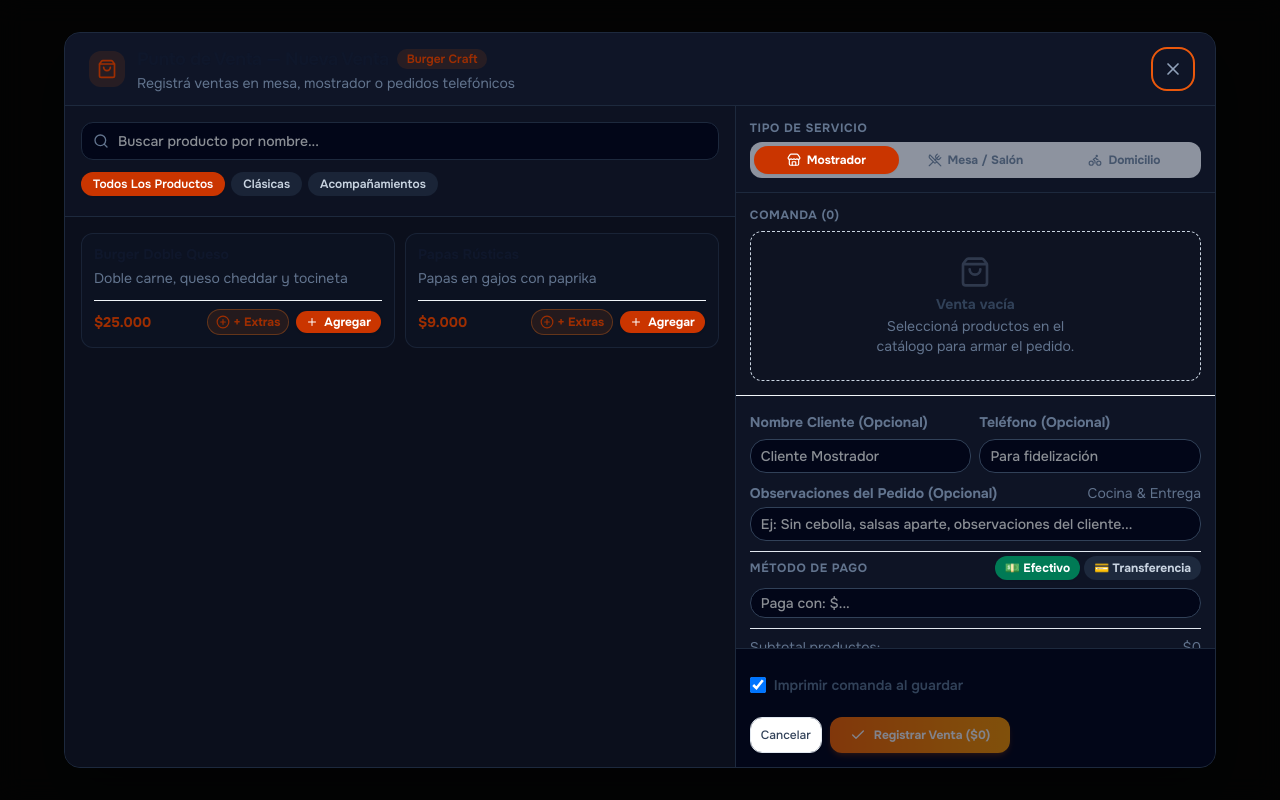
Test case: ManualSaleModal - Point of Sale (POS) Component › allows modifying extras of an item already in the cart
This screenshot has width=1280, height=800.
Quick add a product
Click the button "Agregar" in the row of "$25.000" at [339, 322], box 295,310 -> 382,334
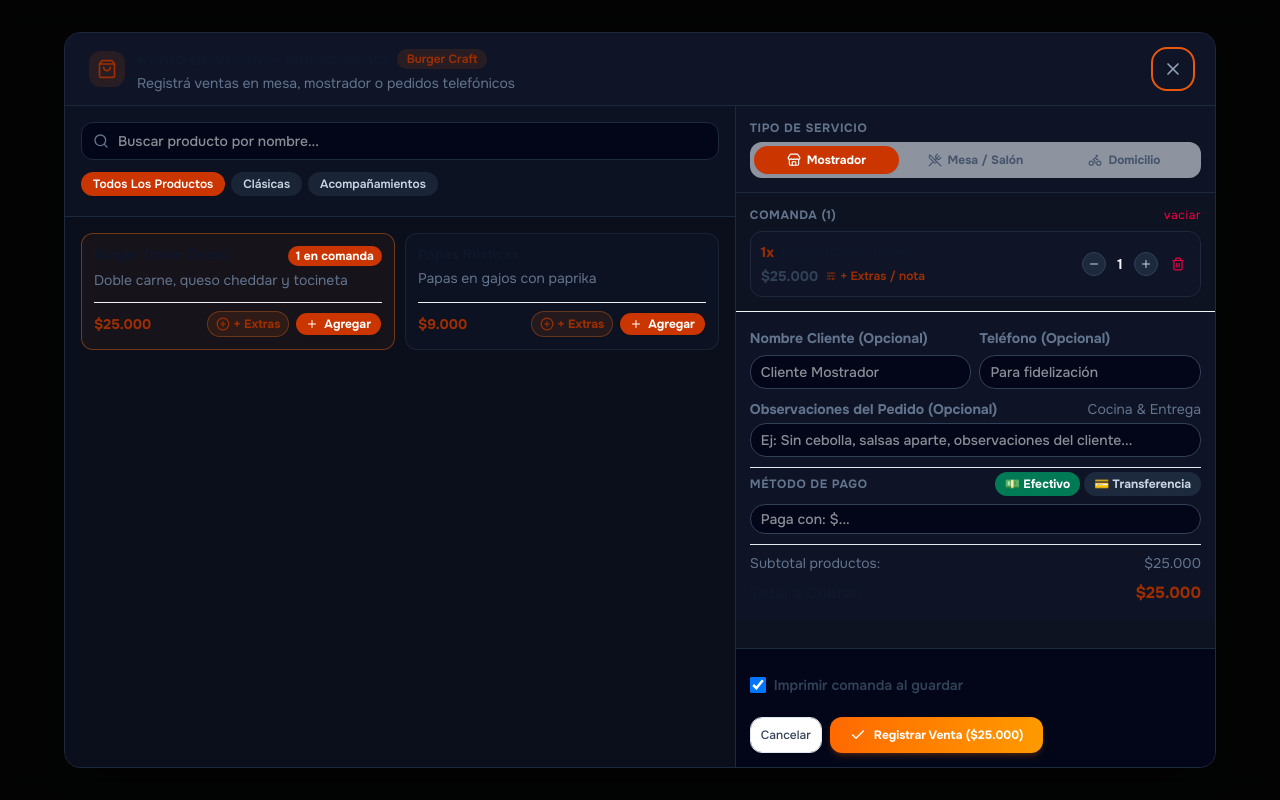
Click on "Extras / nota" on the cart item
Click the button "+ Extras / nota" at [876, 276], box 826,268 -> 925,284
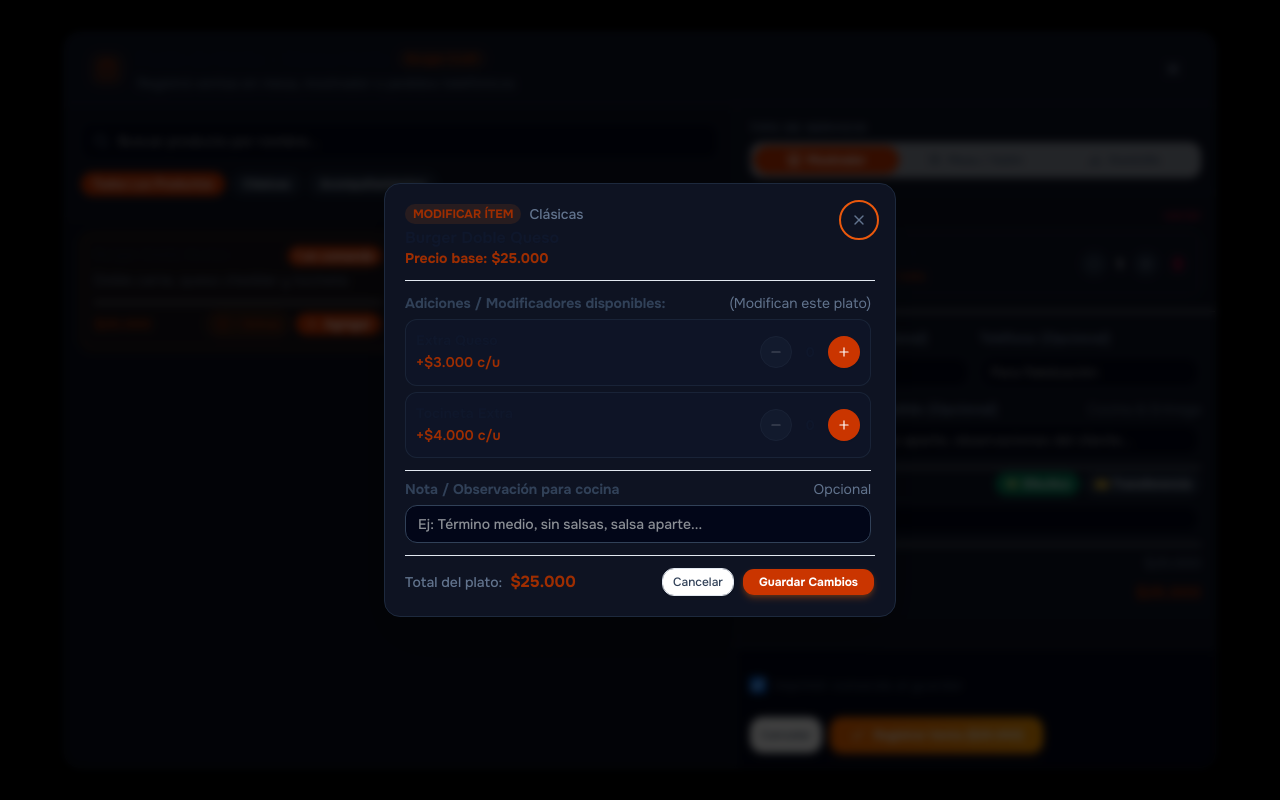
Now the text "Modificar ítem" is shown, box 405,204 -> 521,224
Add Tocineta Extra
Click the button named "Agregar Tocineta Extra" at [844, 425], box 828,409 -> 860,441
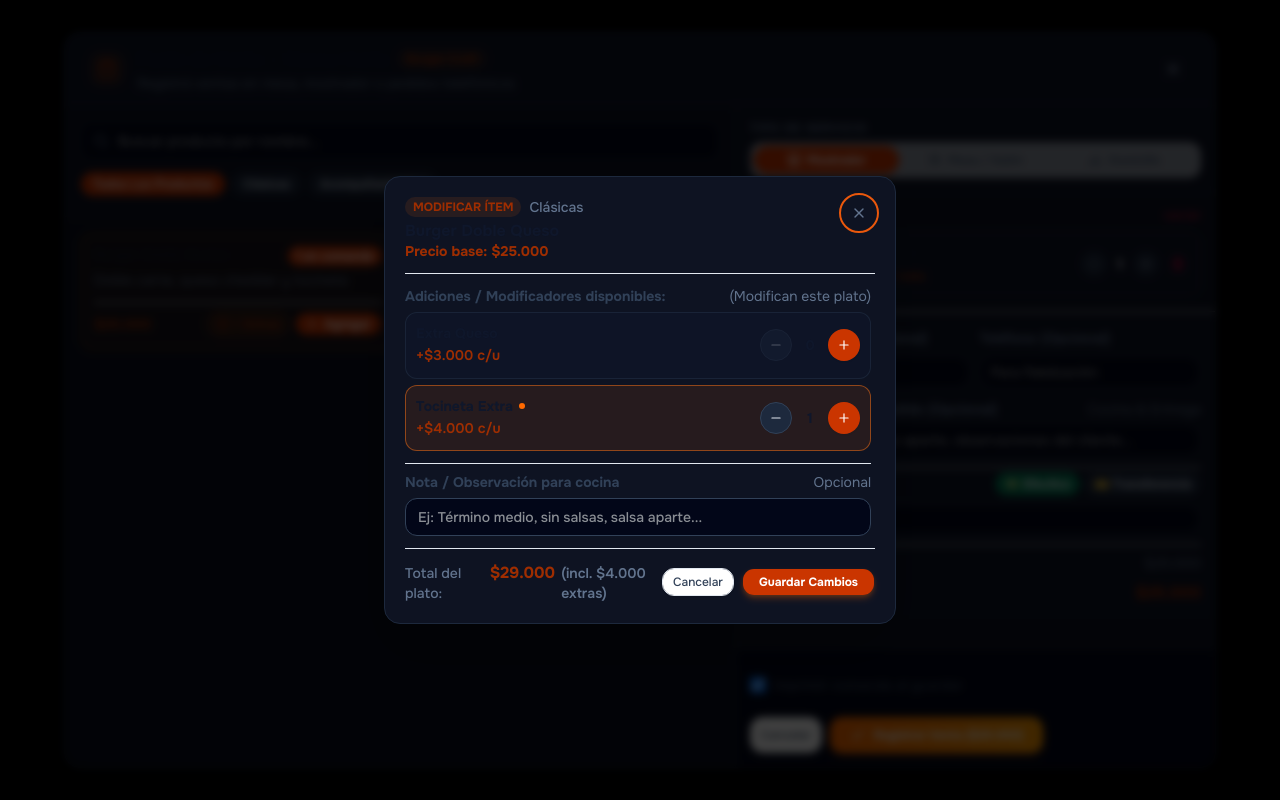
Save changes
Click the button "Guardar Cambios" at [808, 582], box 742,568 -> 875,596
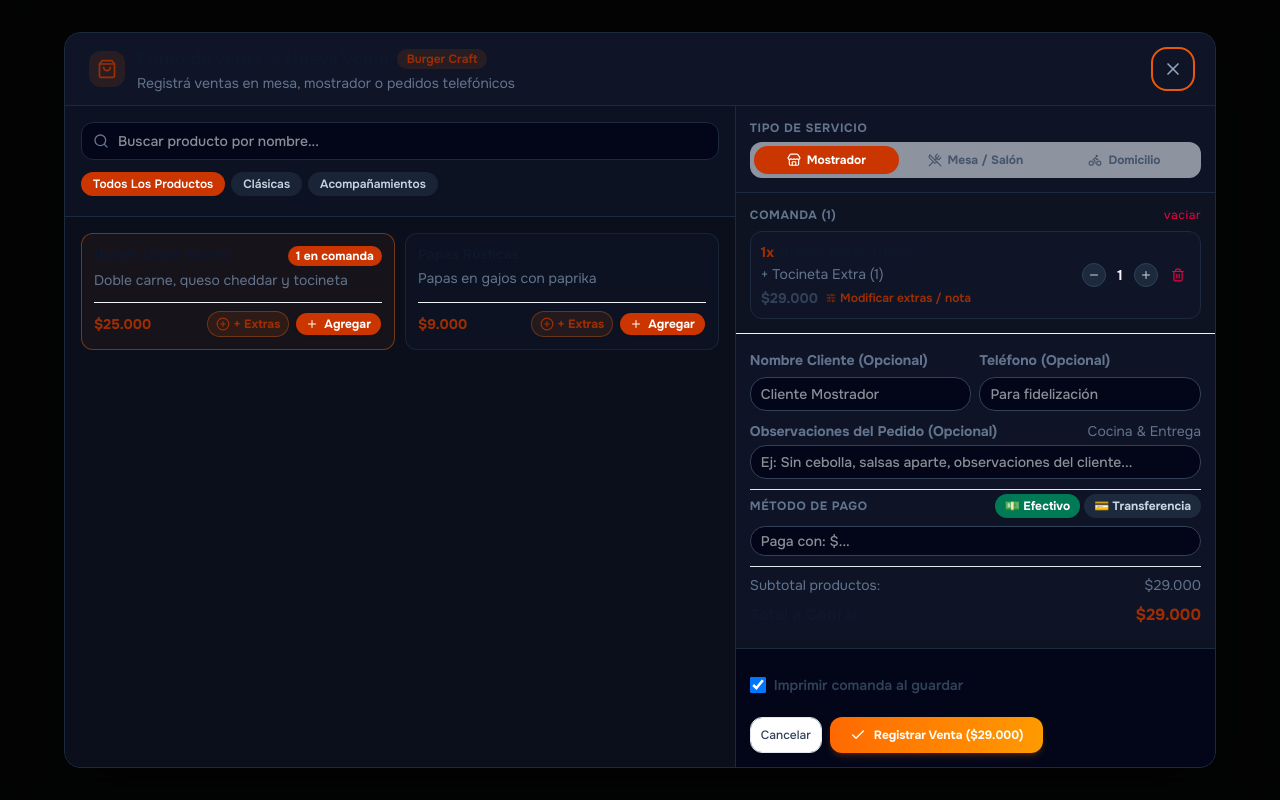
Now the text "Modificar ítem" is gone
Now the text "+ Tocineta Extra (1)" is shown, box 761,265 -> 884,283
